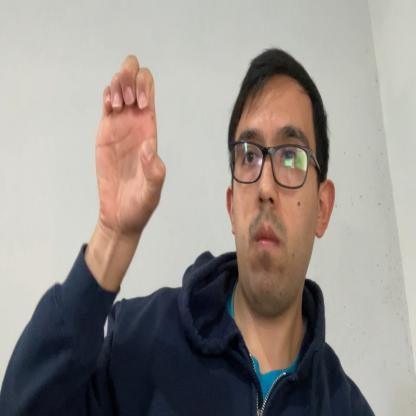E: (96, 52, 167, 238)
